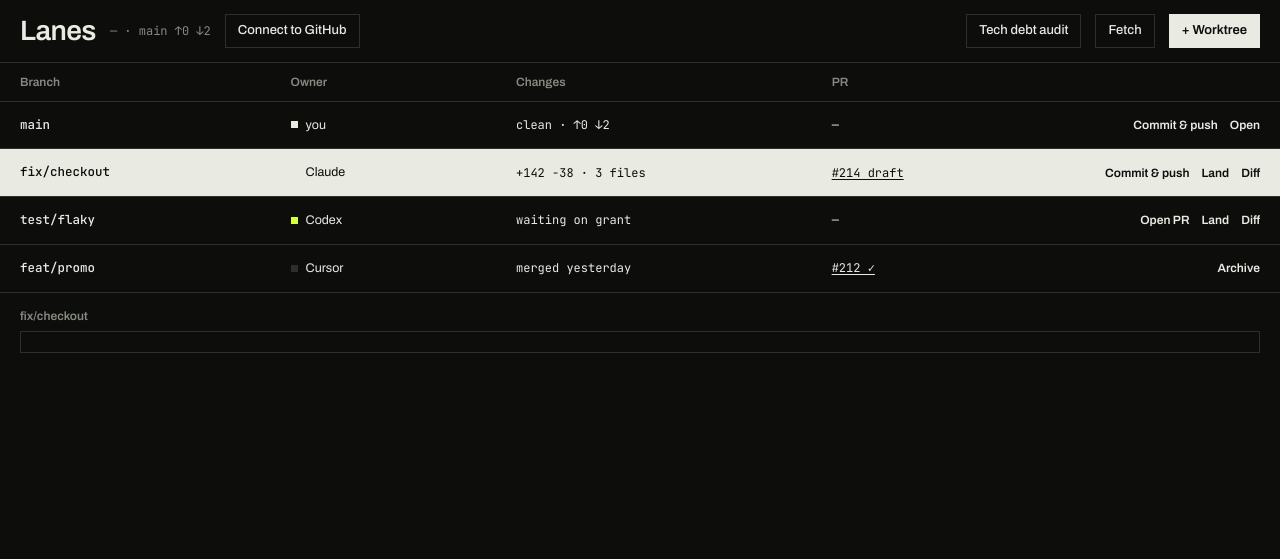
Repo screen › a repo with no remote offers Connect to GitHub in the header, which opens the connect-repo modal
Click the button "Connect to GitHub".
click(292, 31)  # box [225,14,360,48]
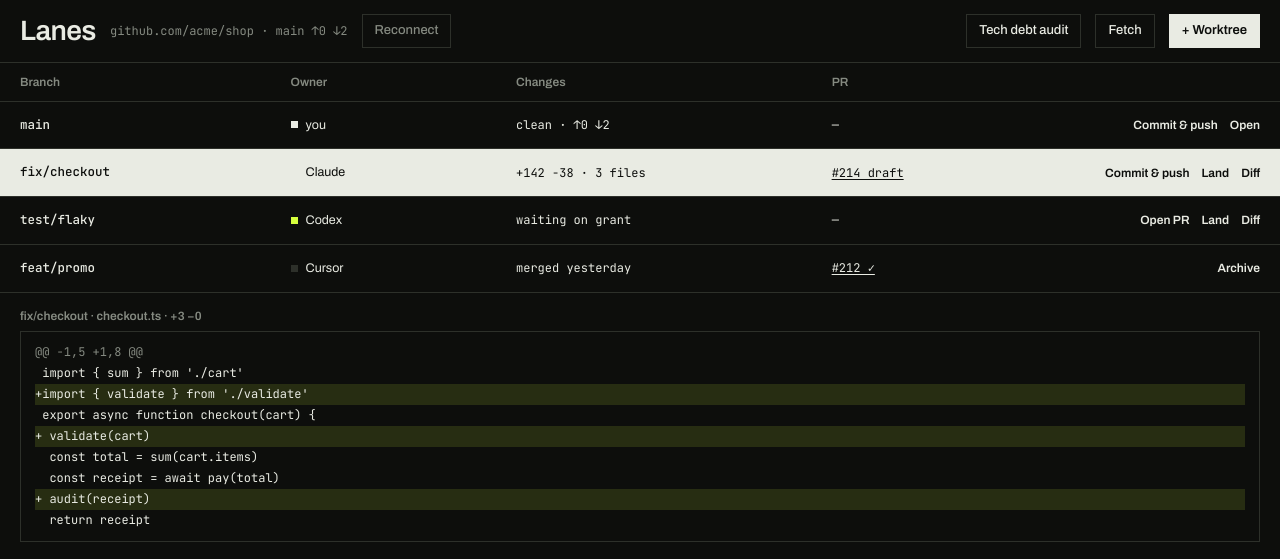
Now the button "Connect to GitHub" is gone
Now the button "Reconnect" is shown, box [362,14,451,48]
